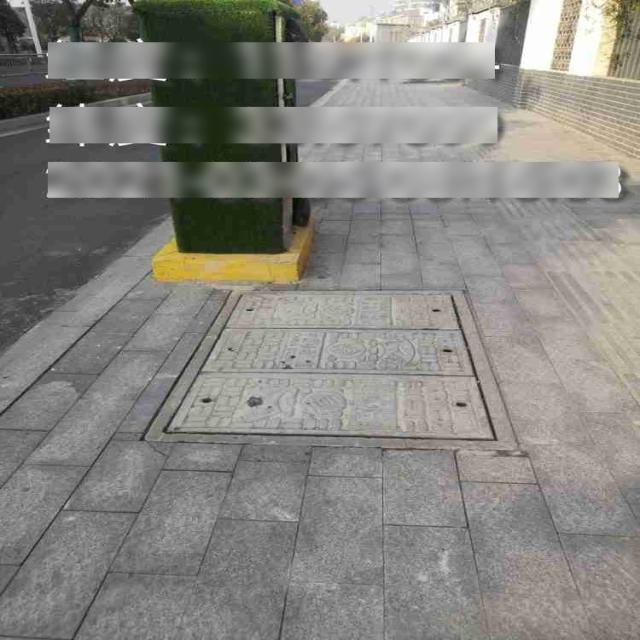Good: (153, 284, 516, 457)
